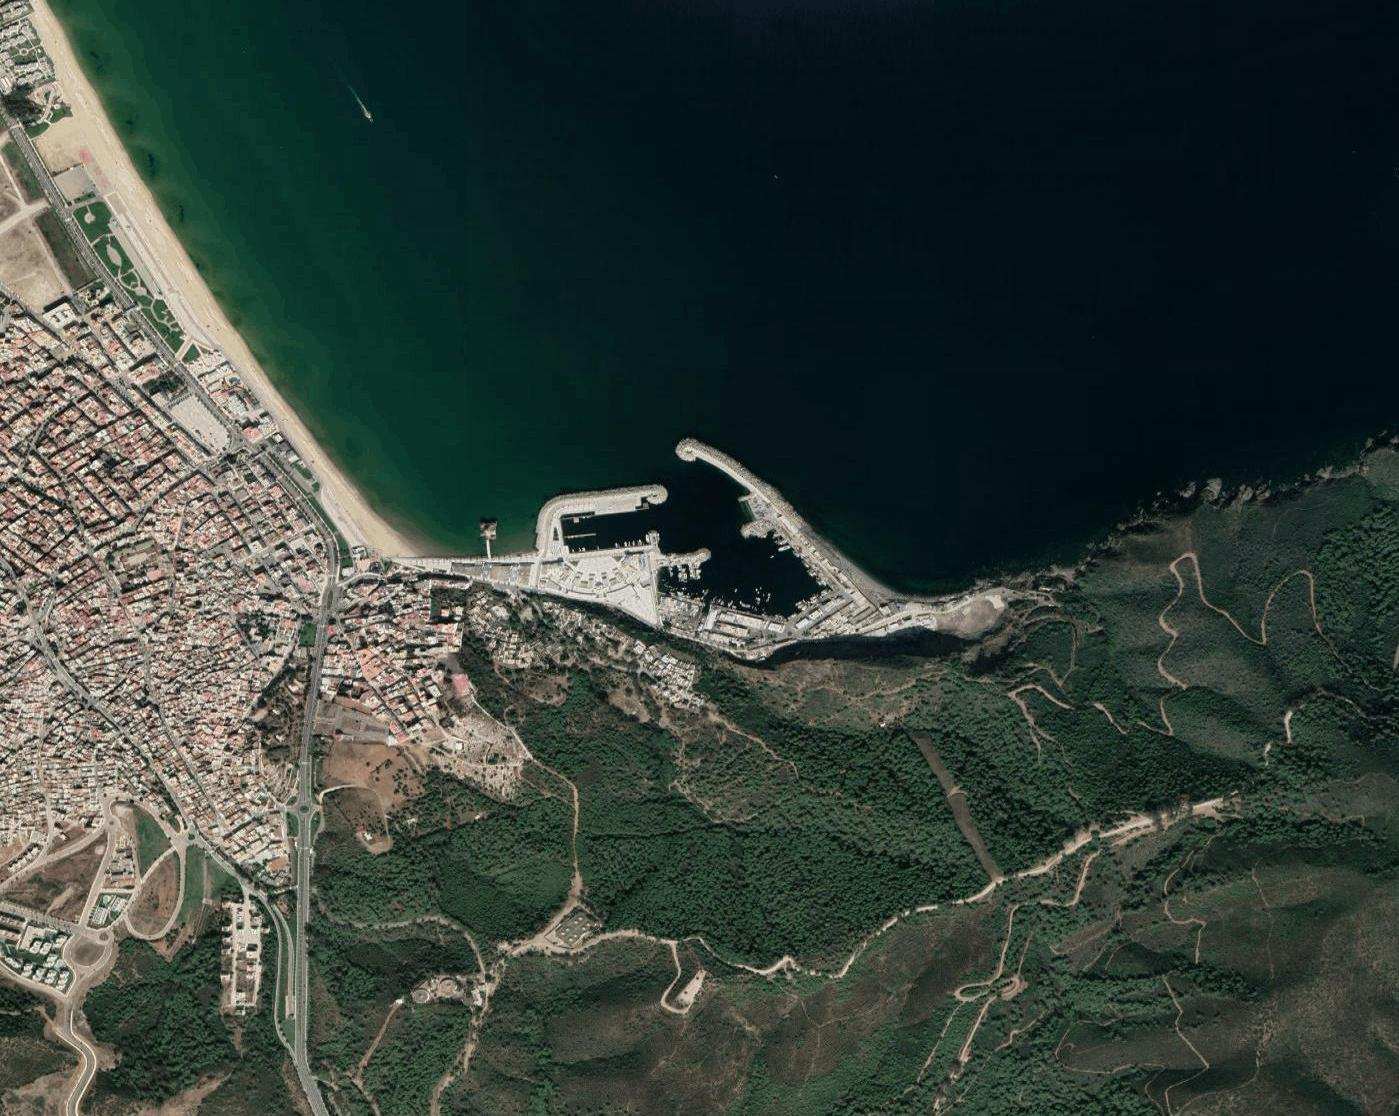harbor: (502, 418, 910, 681)
